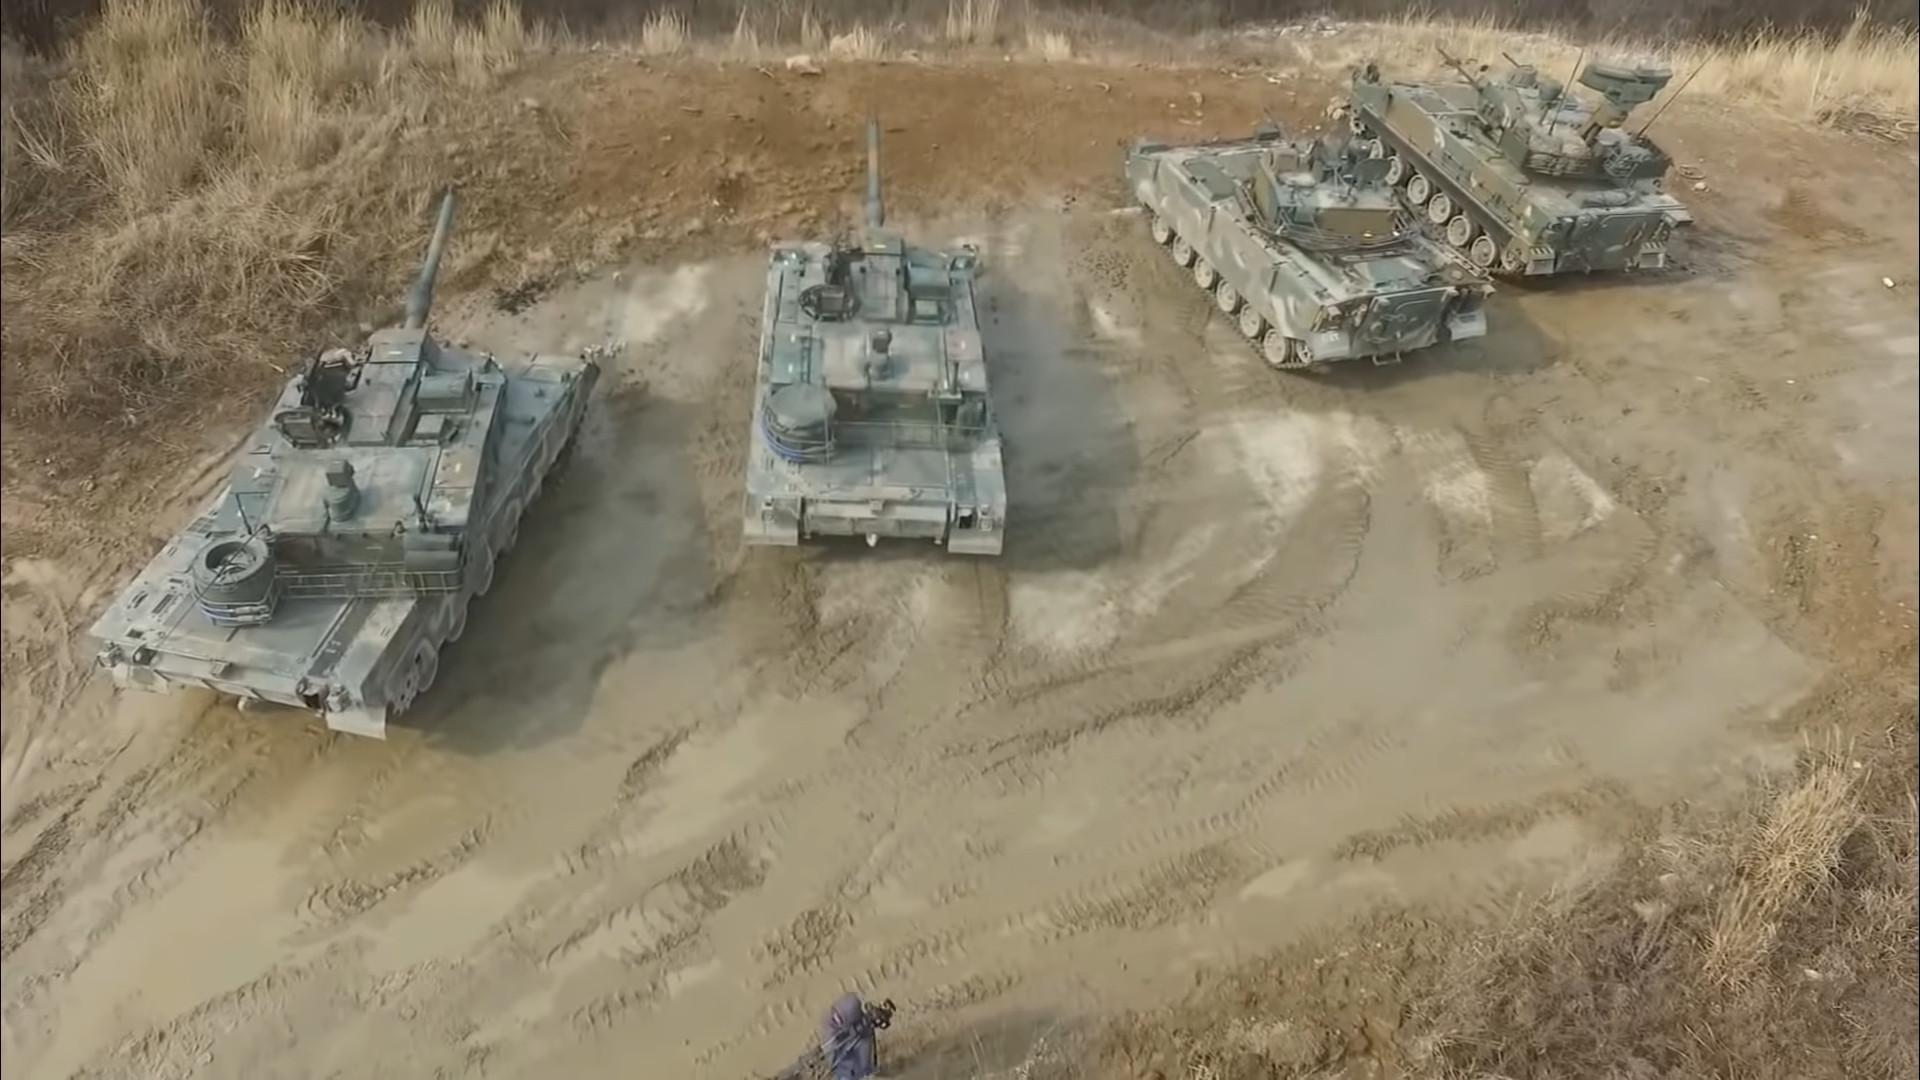tank: (85, 197, 599, 741), (743, 117, 1007, 554), (1124, 127, 1495, 370), (1351, 47, 1695, 277)
